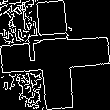L_E: (29, 37, 81, 73)
